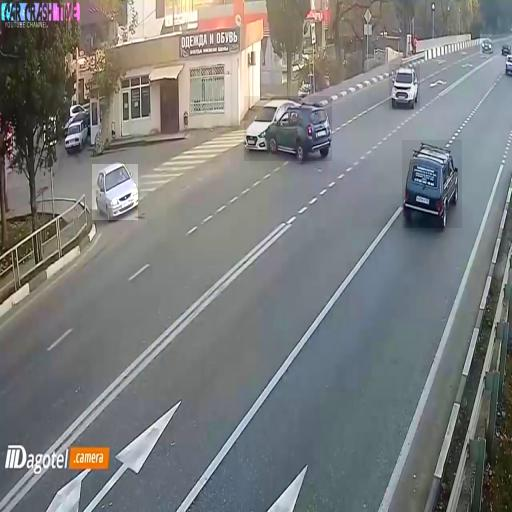小汽车: (402, 140, 462, 228), (92, 164, 138, 220), (389, 64, 420, 110), (66, 118, 90, 154), (503, 43, 512, 80), (480, 34, 492, 54)
小汽车撞小汽车: (244, 96, 332, 161)
